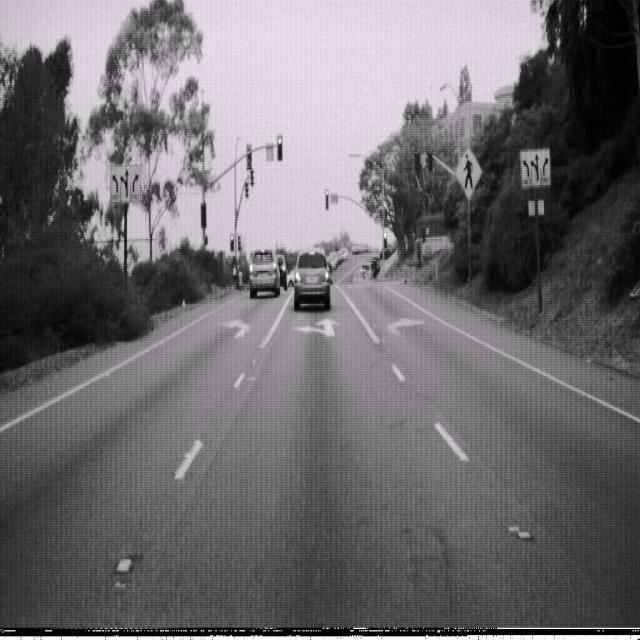pedestrianCrossing: (453, 143, 483, 200)
